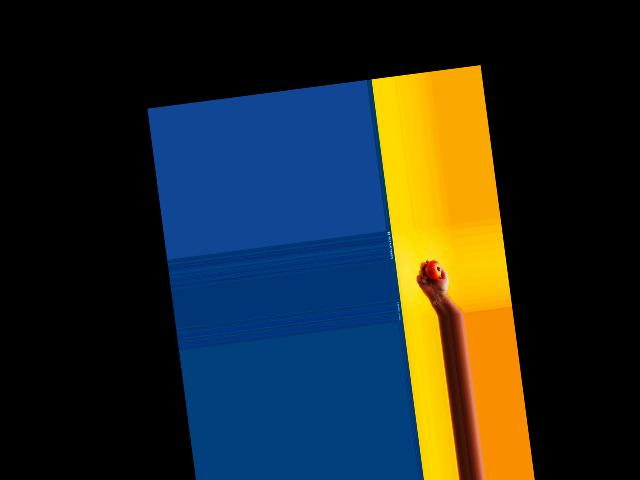tomato: (423, 260, 442, 280)
